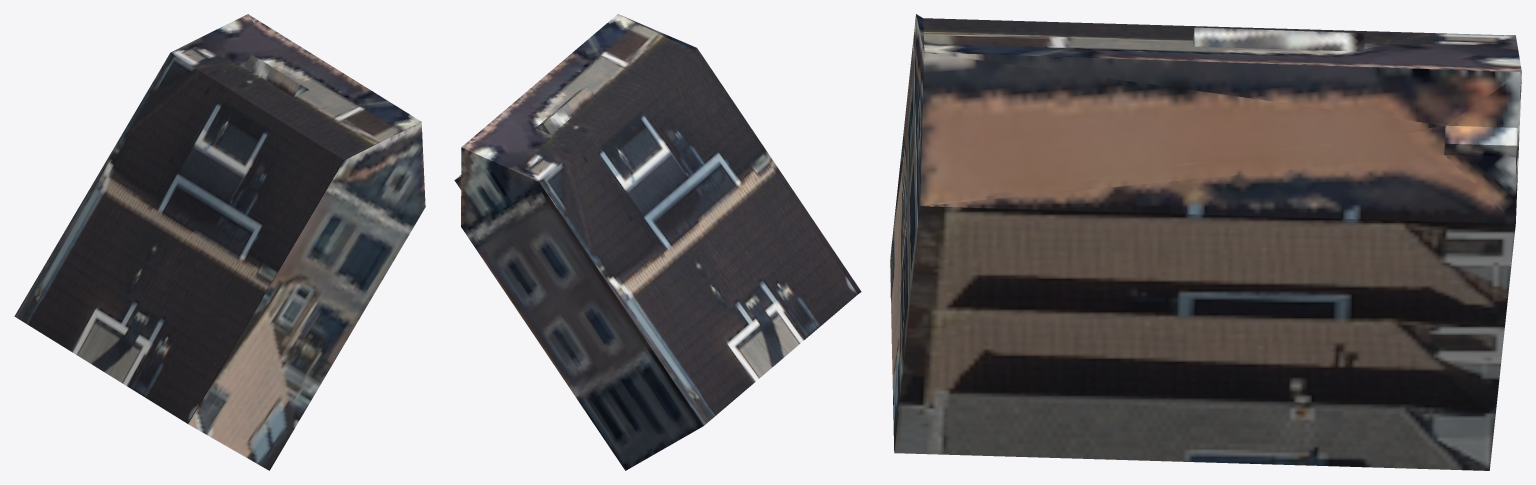
3 views of the same model, side by side, from view 1: azimuth 30°, elevation 25°; view 2: azimuth 150°, elevation 25°; view 3: azimuth 270°, elevation 25° (orthographic). The views are drawn at different scales.
Parts seen in each view (by area): view 1: BAG_0599100000688731 (×4); view 2: BAG_0599100000688731 (×5); view 3: BAG_0599100000688731 (×7).
Part boxes in pixels (bbox=[...]): BAG_0599100000688731 (×4): bbox=[14, 14, 425, 470]; BAG_0599100000688731 (×5): bbox=[461, 14, 861, 470]; BAG_0599100000688731 (×7): bbox=[890, 14, 1521, 470].
Bounding box in the file's own units: 10.58 × 12.73 × 12.94.
7 materials, 7 textured.
